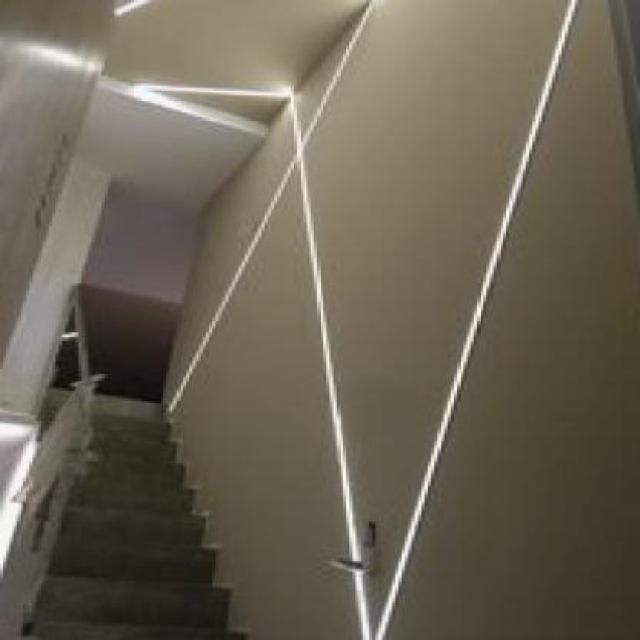stair: (0, 368, 314, 638)
